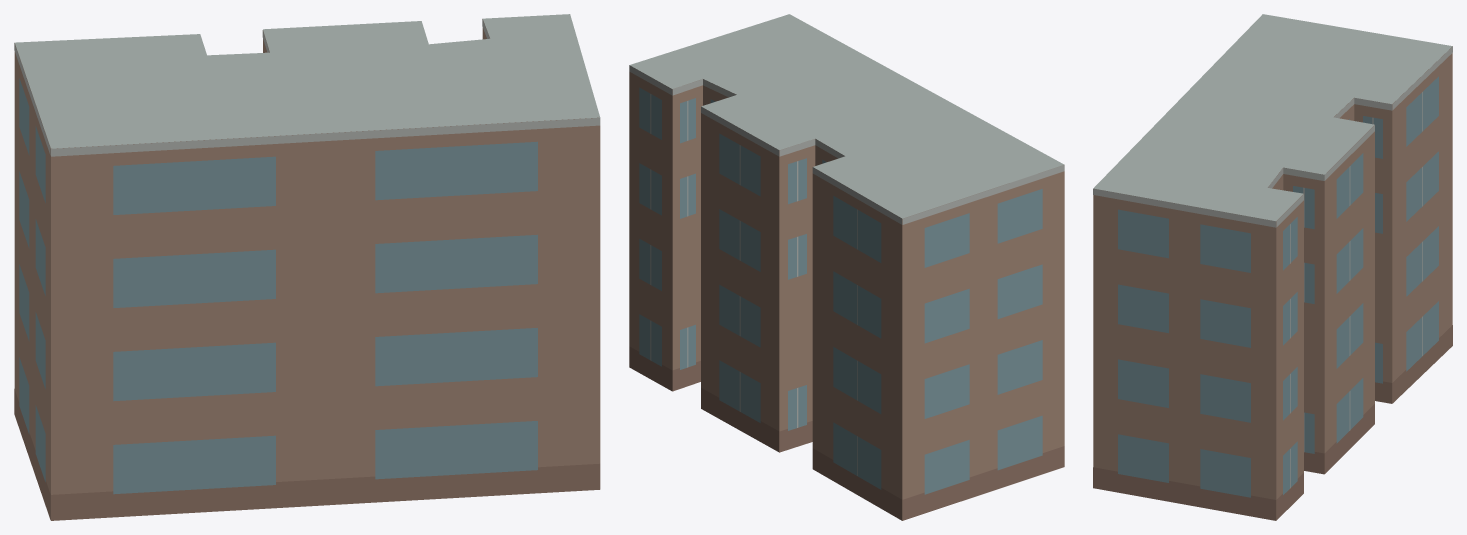
File: survey-upis-33025356.glb
3 views of the same model, side by side, from view 1: azimuth 30°, elevation 25°; view 2: azimuth 150°, elevation 25°; view 3: azimuth 270°, elevation 25° (orthographic). The views are drawn at different scales.
Parts seen in each view (by area): view 1: survey-upis-33025356.tmp; view 2: survey-upis-33025356.tmp; view 3: survey-upis-33025356.tmp.
Part boxes in pixels (x1,y1,x2,y2): survey-upis-33025356.tmp: (14,14,600,520); survey-upis-33025356.tmp: (629,14,1064,520); survey-upis-33025356.tmp: (1093,14,1452,520).
Bounding box in the file's own units: 16.92 × 11.4 × 12.41.
